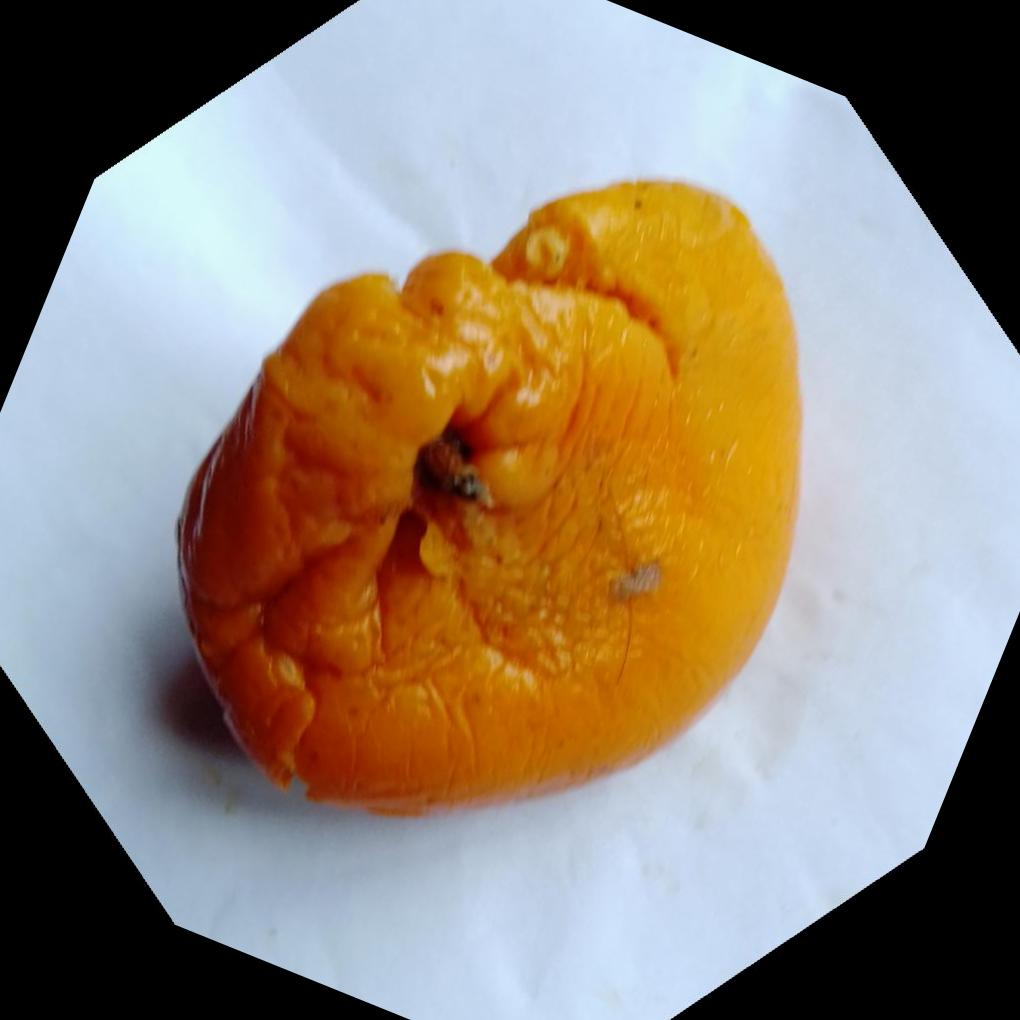FreshOrange: (175, 175, 808, 821)
